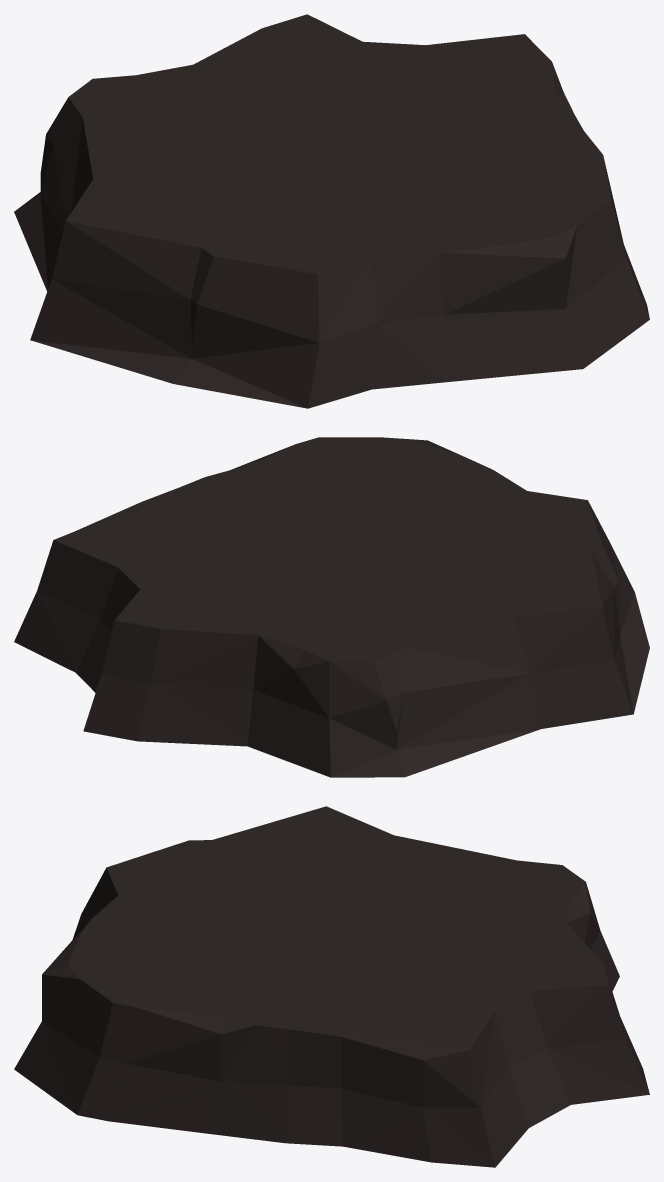
The model's file is Rock 02.FBX.
The picture shows the model from 3 angles, top to bottom: view 1: azimuth 30°, elevation 25°; view 2: azimuth 150°, elevation 25°; view 3: azimuth 270°, elevation 25°; orthographic projection. The views are drawn at different scales.
Parts seen in each view (by area): view 1: Plane001; view 2: Plane001; view 3: Plane001.
Boxes of the visible parts, x1,y1,x2,y2 form: Plane001: (14,14,649,408); Plane001: (14,437,649,777); Plane001: (14,806,649,1167).
Size of the model in its own units: 33.29 by 5.88 by 32.68.
